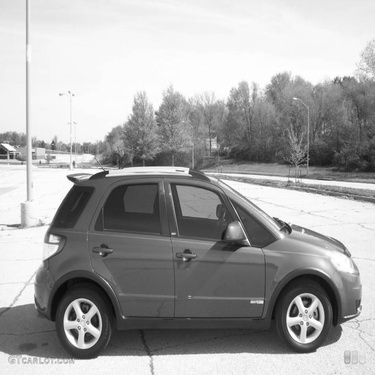car: (5, 147, 372, 349)
